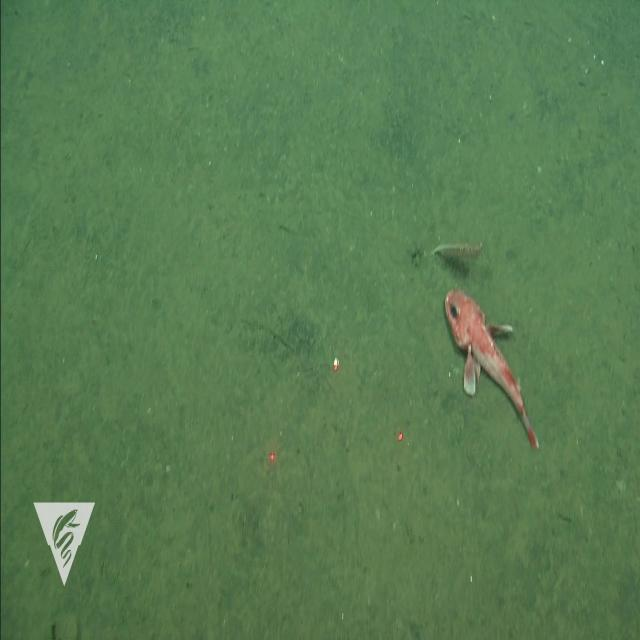Not Brittle Star: (442, 283, 541, 452)
